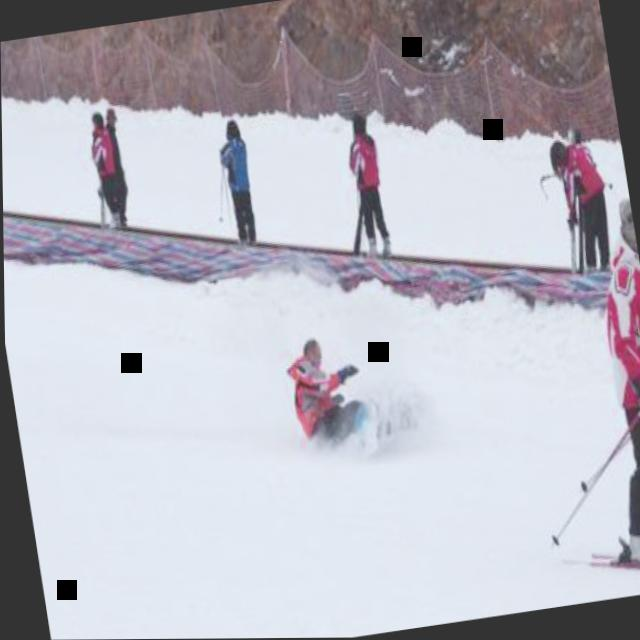Fall-Detected: (273, 310, 381, 455)
